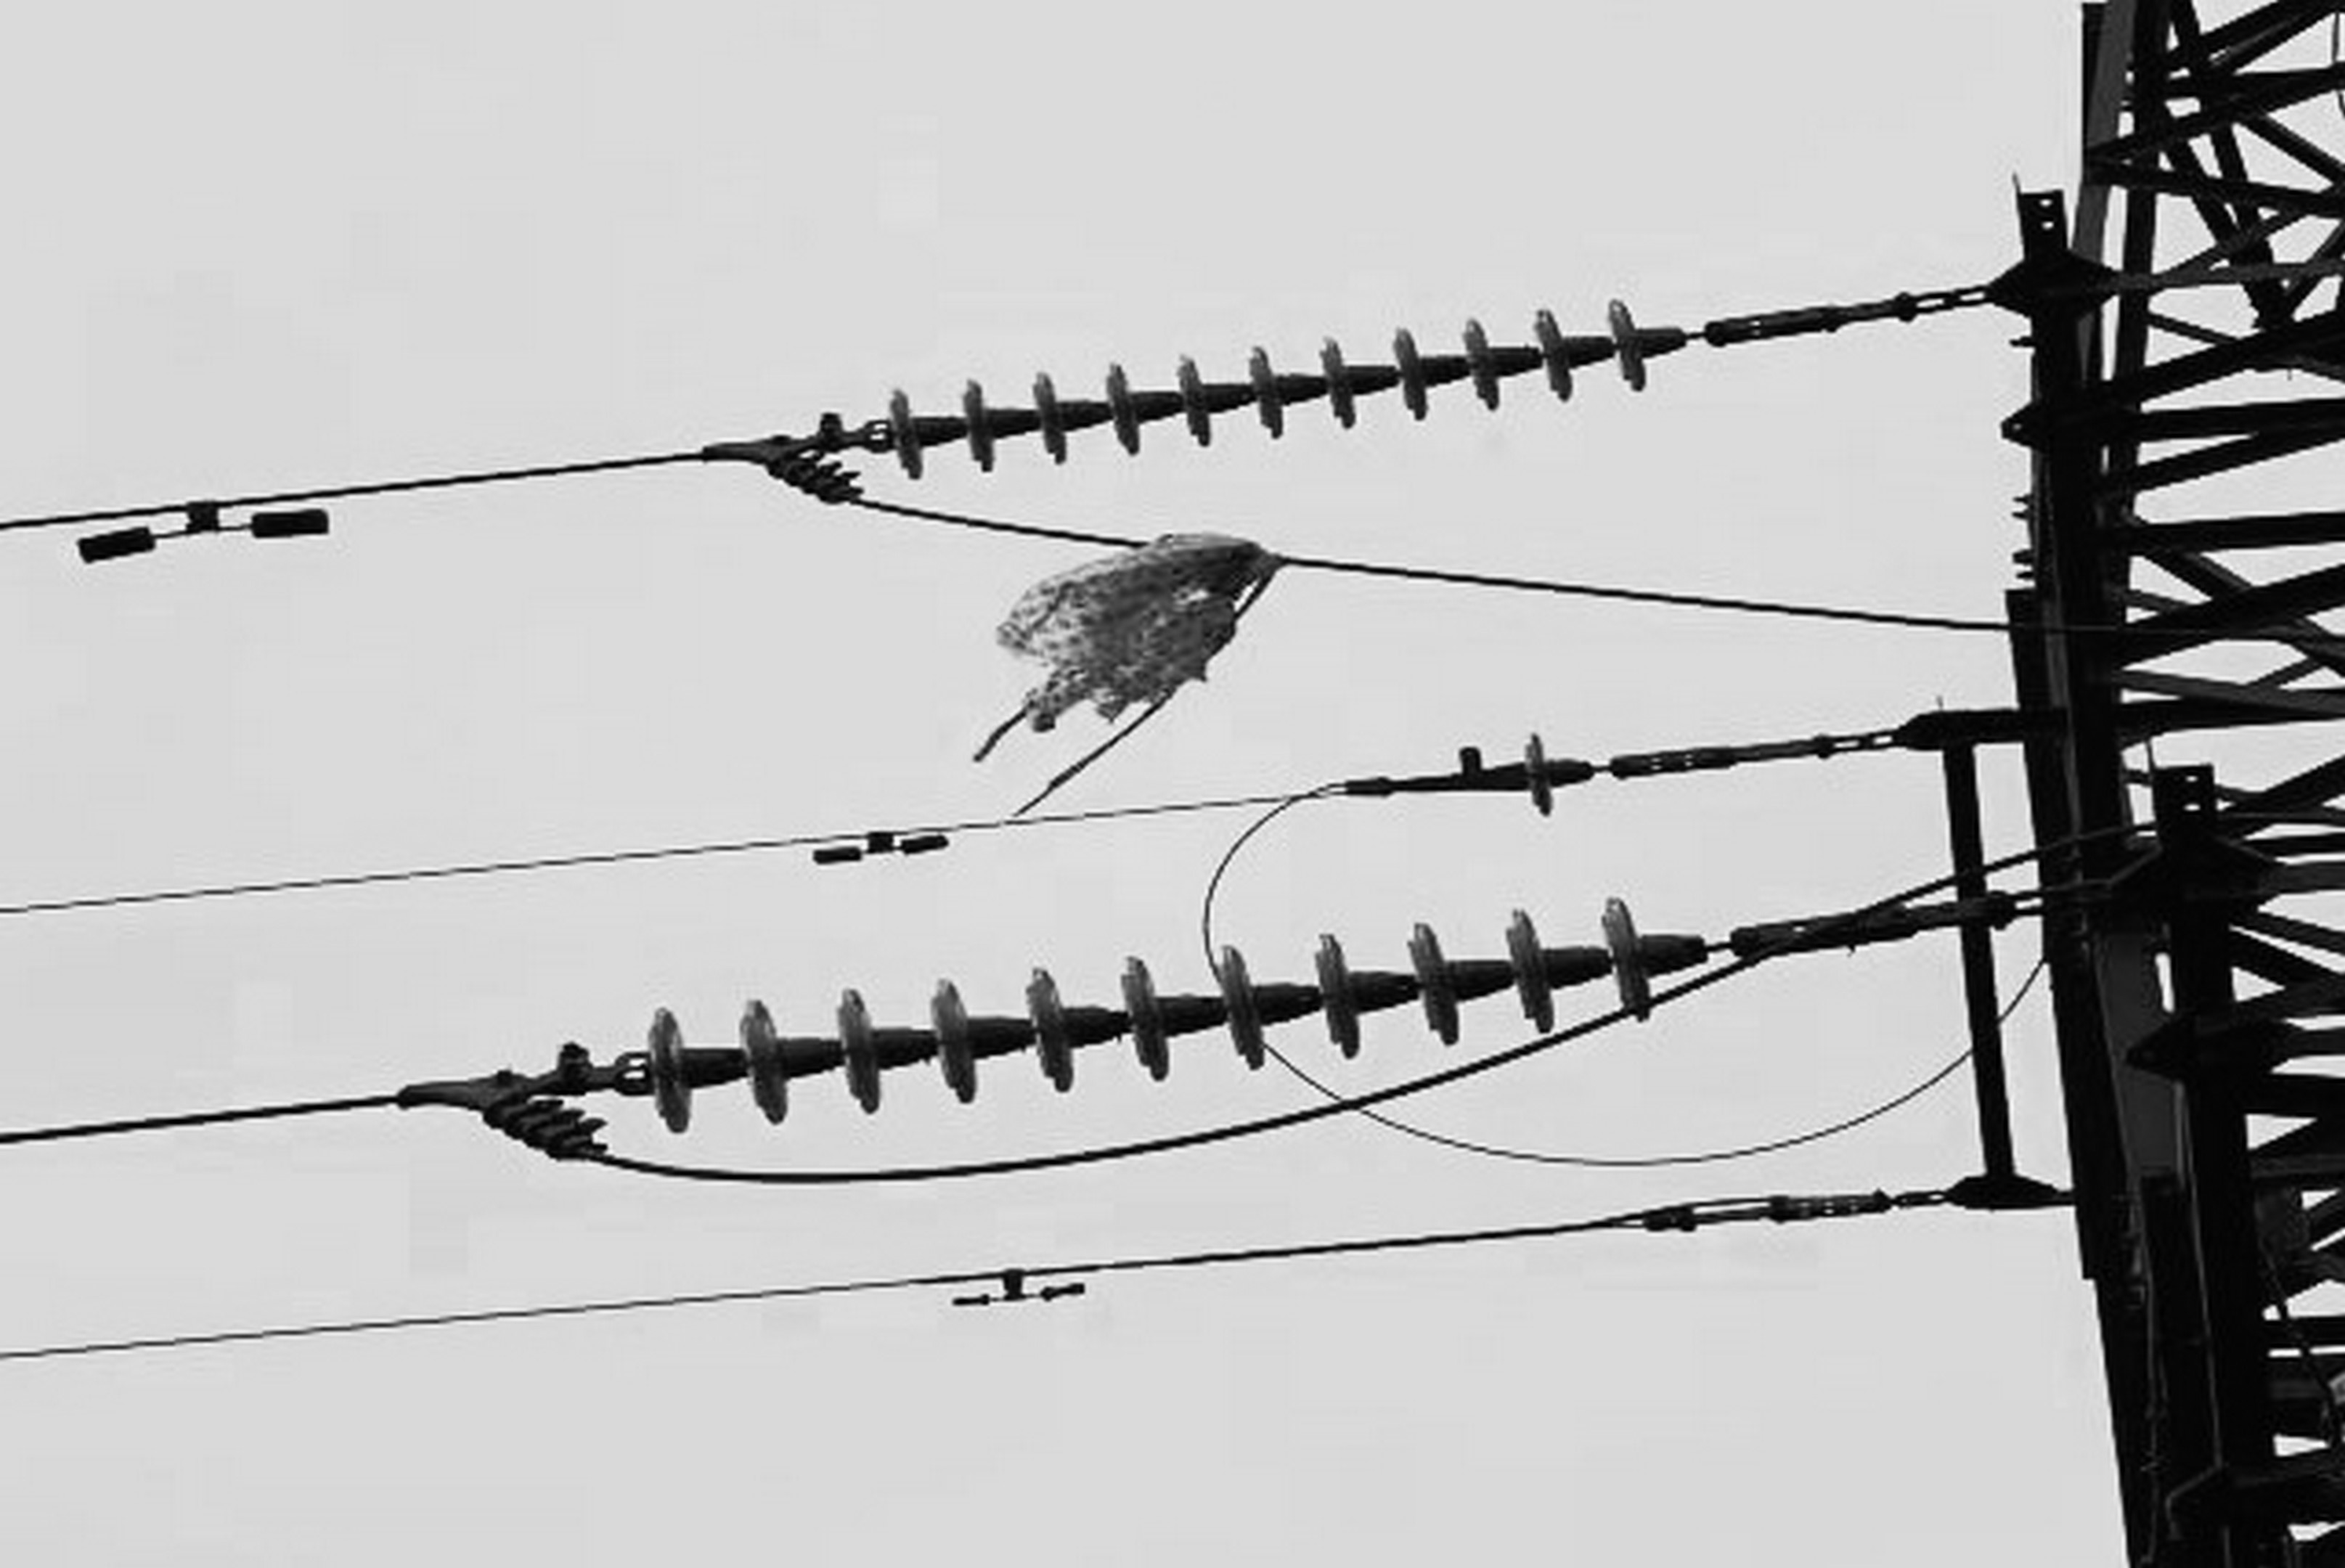wire foreign body: (962, 511, 1293, 812)
